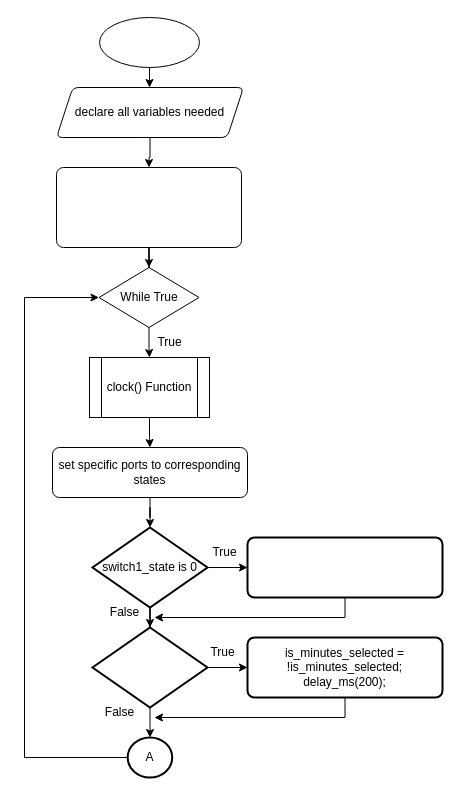
The diagram is 461 pixels wide and 796 high, and some of its shapes have lost their labels. The shapes that lost their labels are listed below. From the top down, each one's centre as x and y in pixels, then its label:
At [149,42]: "START".
At [149,207]: "Set PORT B and C as Output Set PORT D as INPUT Set PORT B and C to 0".
At [344,567]: "clock_enabled = !clock_enabled; start = !start;".
At [149,667]: "!clock_enabled && switch2_state == 0".
